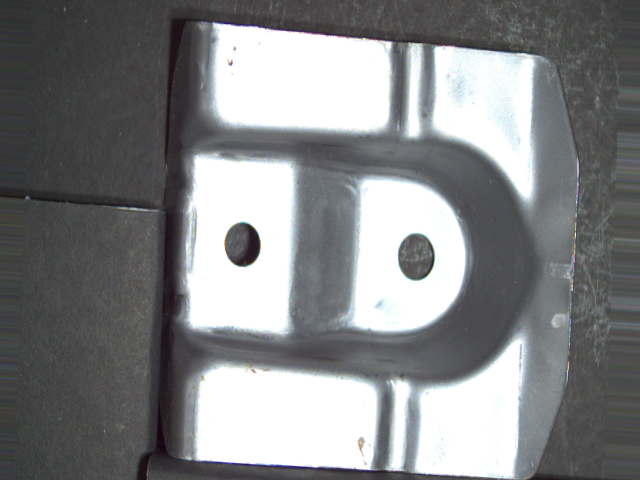defect: (394, 228, 441, 287)
